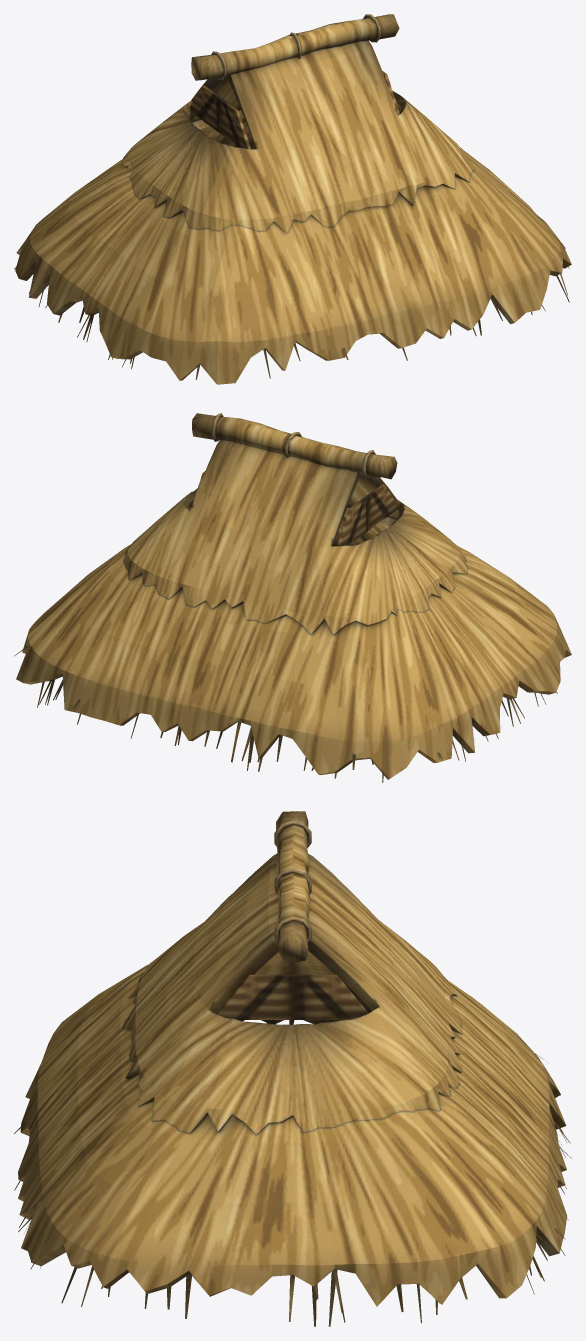
The model's file is family_hall_thatch.gltf.
3 views of the same model, one above another, from view 1: azimuth 30°, elevation 25°; view 2: azimuth 150°, elevation 25°; view 3: azimuth 270°, elevation 25° (orthographic). The views are drawn at different scales.
Visible parts, largest first — view 1: family_hall_thatch; view 2: family_hall_thatch; view 3: family_hall_thatch.
Part boxes in pixels (left/top/right/bottom): family_hall_thatch: left=14, top=14, right=571, bottom=384; family_hall_thatch: left=14, top=413, right=571, bottom=782; family_hall_thatch: left=14, top=811, right=571, bottom=1326.
Size of the model in its own units: 4.71 by 2.51 by 3.93.
3 materials, 3 textured.
